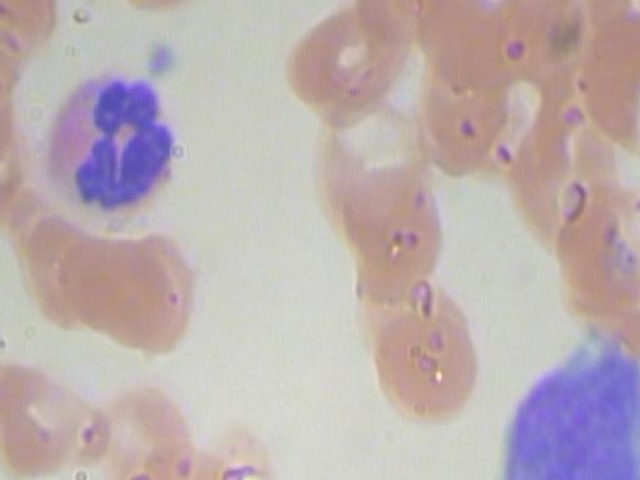Platelets: (143, 32, 182, 83)
RBC: (503, 95, 632, 248), (43, 218, 184, 345), (350, 298, 491, 425), (327, 157, 468, 284), (273, 0, 413, 120), (0, 199, 124, 326), (66, 373, 207, 480), (405, 42, 509, 176), (0, 354, 109, 480), (565, 0, 640, 149), (0, 58, 35, 191), (0, 0, 58, 69)
WBC: (32, 70, 188, 227), (493, 321, 640, 480)
